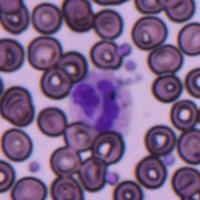N: (69, 70, 132, 134)
